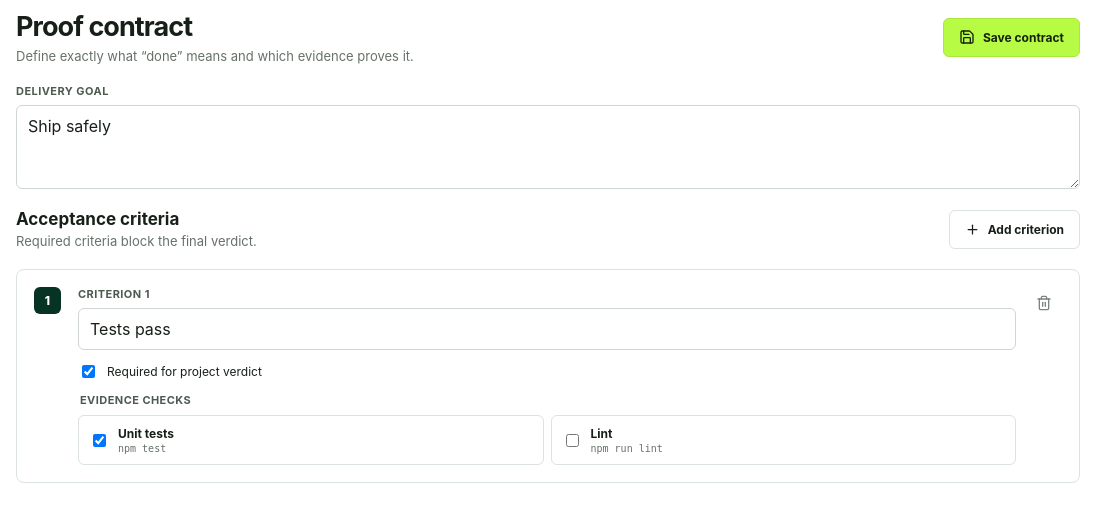
it: ContractEditor › blocks saving an empty criterion
Clear the field labelled "Criterion 1" at (547, 329), box [78,308,1016,350]
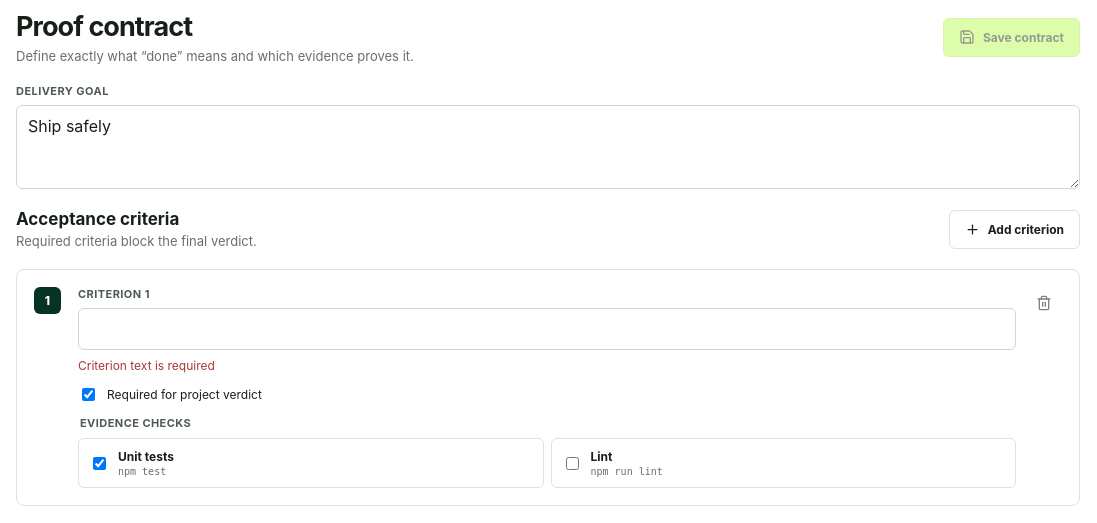
Result: the message reads "Criterion text is required" at [78,358,215,373]
Result: the button "Save contract" is disabled at [943,18,1080,56]
